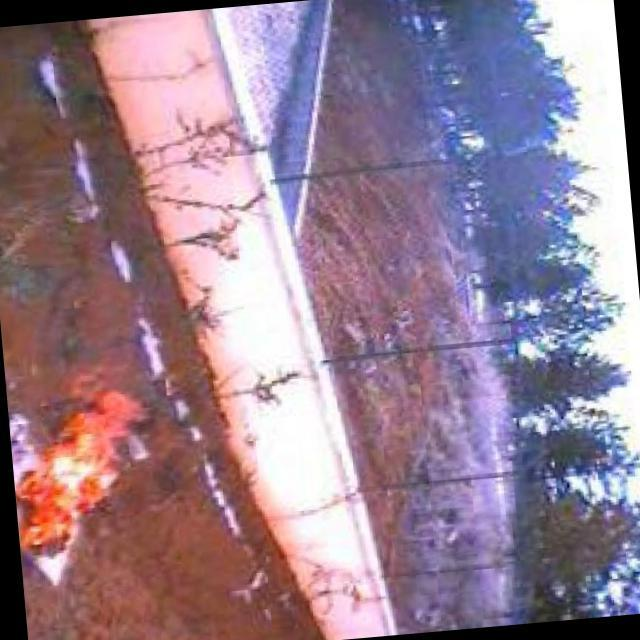Fire: (5, 366, 163, 568)
